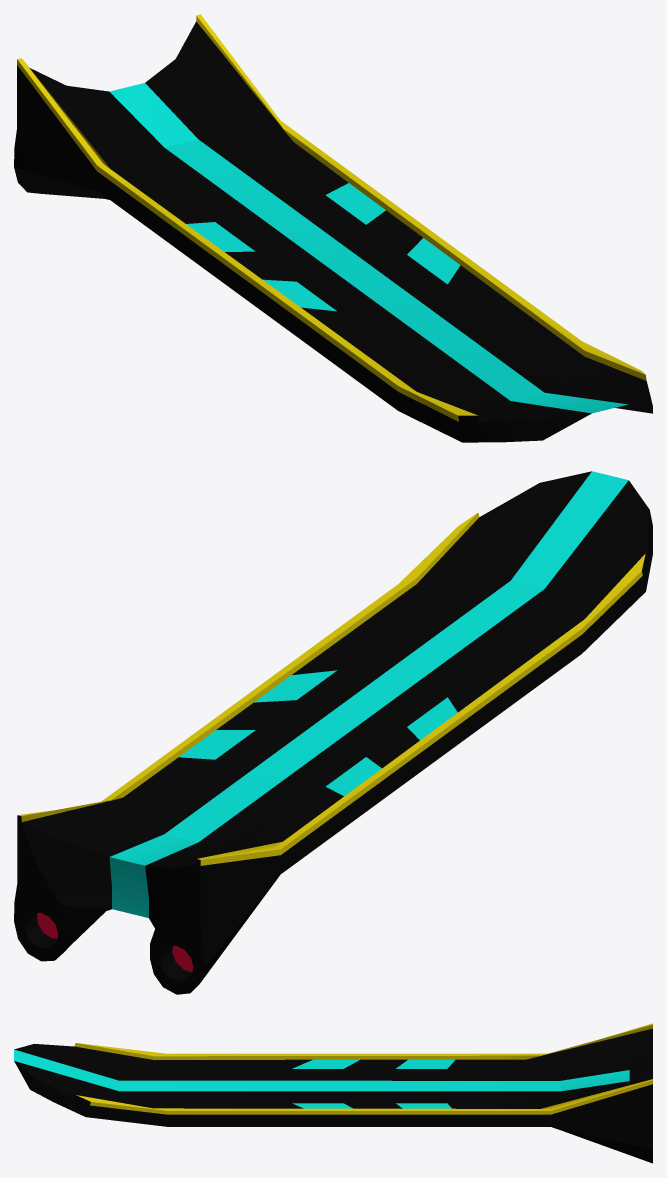
Rendered from SkateBoard.fbx.
3 views of the same model, one above another, from view 1: azimuth 30°, elevation 25°; view 2: azimuth 150°, elevation 25°; view 3: azimuth 270°, elevation 25° (orthographic). The views are drawn at different scales.
Visible parts, largest first — view 1: Cube; view 2: Cube; view 3: Cube.
Boxes of the visible parts, <box> form: Cube: <box>14,14,652,442</box>; Cube: <box>14,471,652,994</box>; Cube: <box>14,1023,652,1163</box>.
Size of the model in its own units: 207 by 146 by 946.
